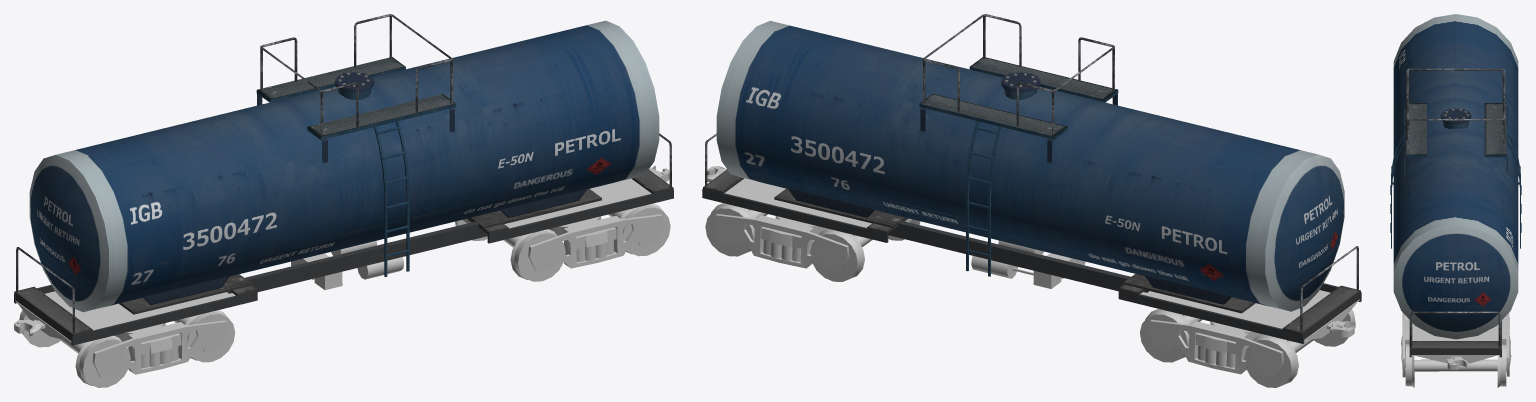
File: TrainTanker08.FBX
3 views of the same model, side by side, from view 1: azimuth 30°, elevation 25°; view 2: azimuth 150°, elevation 25°; view 3: azimuth 270°, elevation 25° (orthographic). The views are drawn at different scales.
Parts seen in each view (by area): view 1: TrainTanker08, TrainTanker0Wheels, TrainTanker0DetailBlack, TrainTanker0Down; view 2: TrainTanker08, TrainTanker0Wheels, TrainTanker0DetailBlack, TrainTanker0Down; view 3: TrainTanker08, TrainTanker0Wheels, TrainTanker0DetailBlack, TrainTanker0Down.
Part boxes in pixels (left/top/right/bottom): TrainTanker08: left=16, top=14, right=671, bottom=333; TrainTanker0Wheels: left=19, top=203, right=670, bottom=387; TrainTanker0DetailBlack: left=14, top=170, right=673, bottom=345; TrainTanker0Down: left=14, top=165, right=669, bottom=341; TrainTanker08: left=705, top=14, right=1358, bottom=332; TrainTanker0Wheels: left=705, top=203, right=1355, bottom=387; TrainTanker0DetailBlack: left=702, top=169, right=1361, bottom=343; TrainTanker0Down: left=707, top=166, right=1359, bottom=340; TrainTanker08: left=1390, top=14, right=1521, bottom=348; TrainTanker0Wheels: left=1401, top=312, right=1511, bottom=387; TrainTanker0DetailBlack: left=1409, top=320, right=1501, bottom=357; TrainTanker0Down: left=1412, top=323, right=1498, bottom=369.
Bounding box in the file's own units: 19420 × 7027 × 4327.
